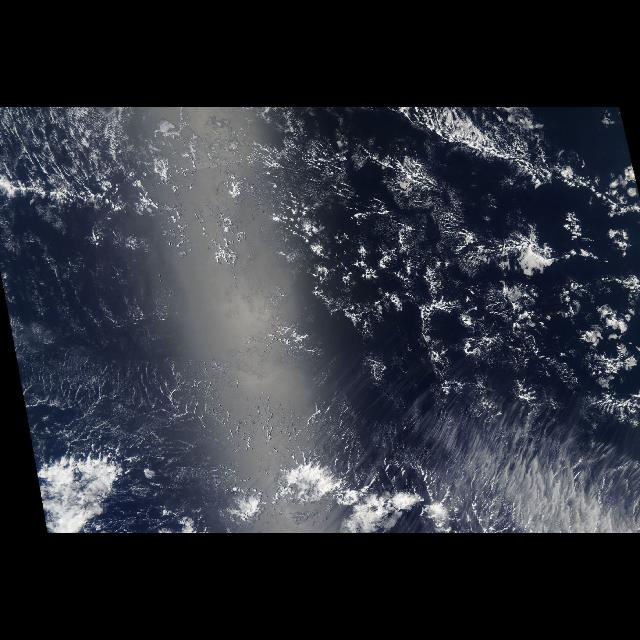Fish: (386, 110, 640, 272), (2, 154, 218, 220)
Gravel: (279, 132, 639, 406), (23, 352, 296, 450)
Sugar: (8, 255, 312, 465)
